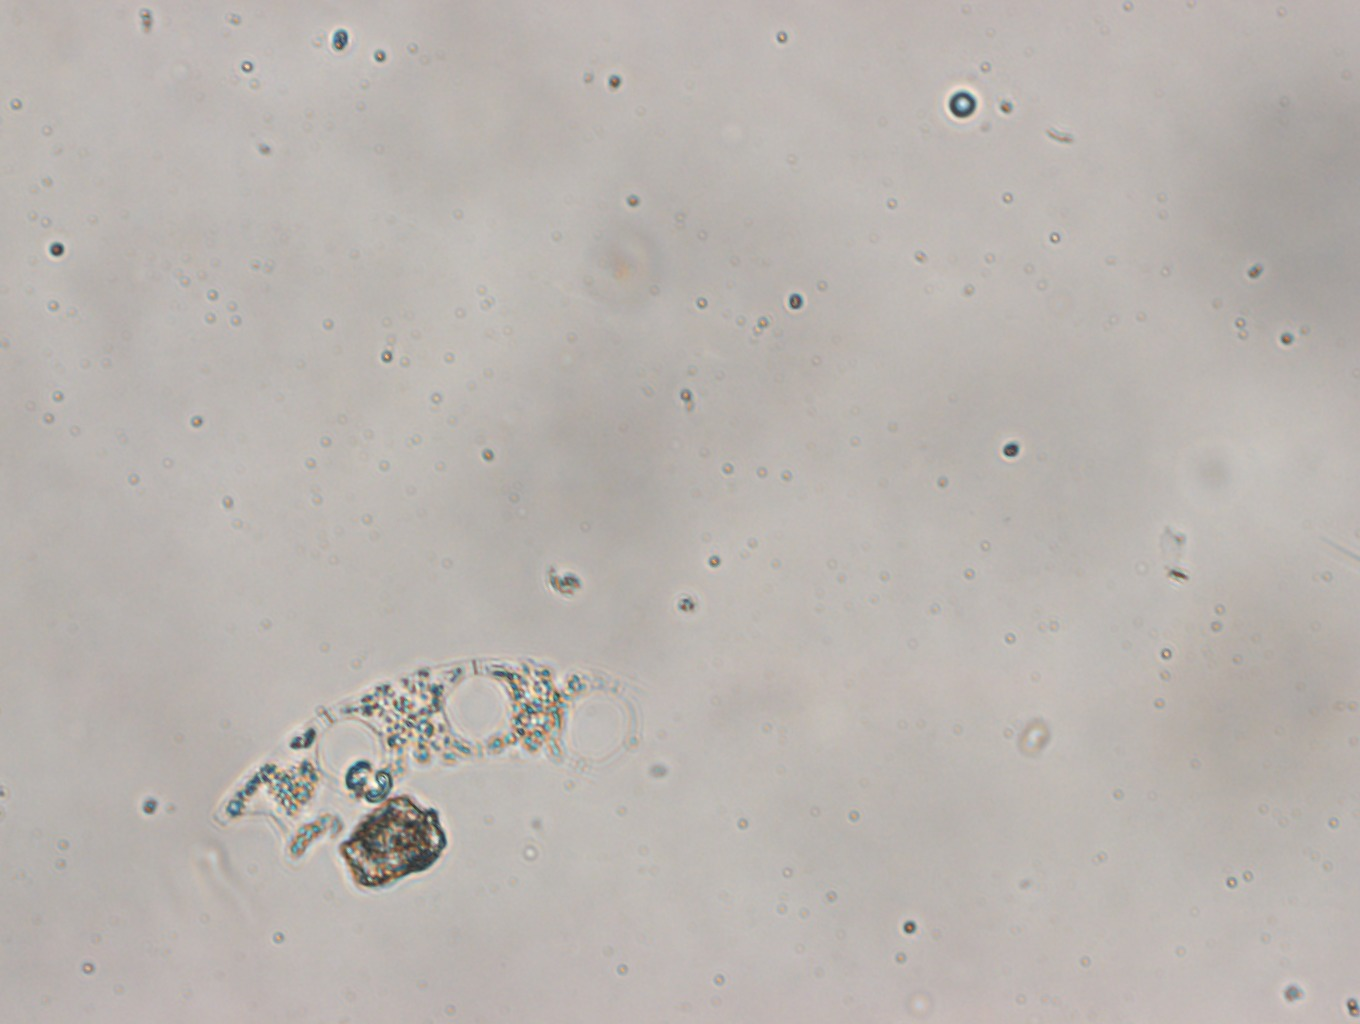eucampia: (212, 656, 652, 868)
